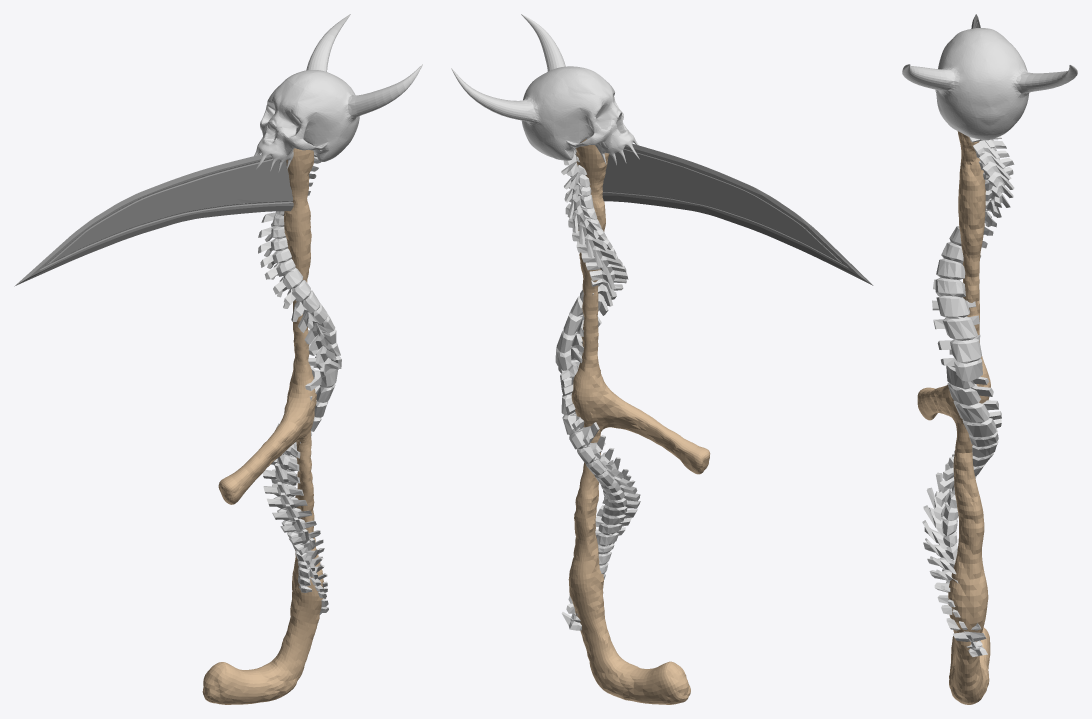
Rendered from scythe.fbx.
The picture shows the model from 3 angles, left to right: view 1: azimuth 30°, elevation 25°; view 2: azimuth 150°, elevation 25°; view 3: azimuth 270°, elevation 25°; orthographic projection. The views are drawn at different scales.
Visible parts, largest first — view 1: Box01, Box02, Head, Neck01, Neck; view 2: Box01, Box02, Head, Neck, Neck01; view 3: Box01, Head, Neck01, Neck.
Boxes of the visible parts, <box> form: Box01: <box>202,148,323,704</box>; Box02: <box>14,154,293,286</box>; Head: <box>254,14,422,172</box>; Neck01: <box>263,366,337,622</box>; Neck: <box>258,155,341,377</box>; Box01: <box>568,139,710,704</box>; Box02: <box>602,143,873,285</box>; Head: <box>451,14,639,165</box>; Neck: <box>555,149,628,370</box>; Neck01: <box>558,360,640,630</box>; Box01: <box>917,131,990,704</box>; Head: <box>902,28,1077,140</box>; Neck01: <box>922,365,1001,656</box>; Neck: <box>932,136,1014,381</box>.
Bounding box in the file's own units: 420 × 660 × 149.
